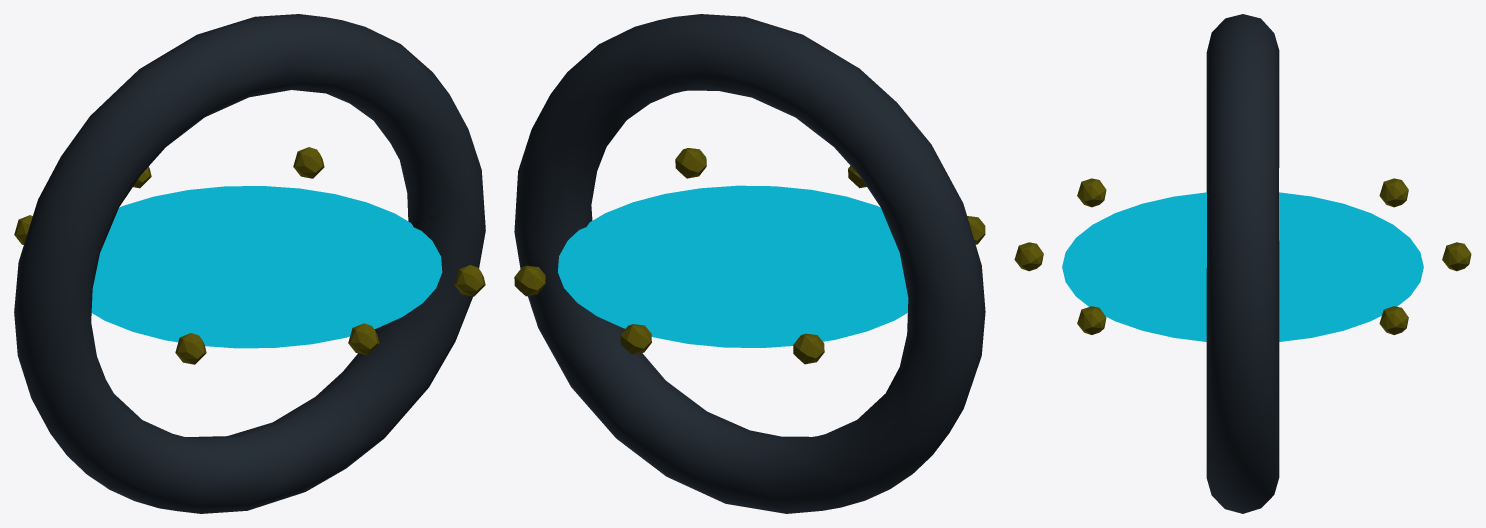
The model's file is 15_portal_atlantica_3d.obj.
The picture shows the model from 3 angles, left to right: view 1: azimuth 30°, elevation 25°; view 2: azimuth 150°, elevation 25°; view 3: azimuth 270°, elevation 25°; orthographic projection. The views are drawn at different scales.
Visible parts, largest first — view 1: Torus, Circle, Icosphere.001, Icosphere.005, Icosphere.002, Icosphere.003; view 2: Torus, Circle, Icosphere.005, Icosphere.007, Icosphere.003, Icosphere.006; view 3: Torus, Circle, Icosphere.001, Icosphere.002, Icosphere.006, Icosphere.005, Icosphere.007, Icosphere.003.
Part boxes in pixels (x1,y1,x2,y2): Torus: [14, 14, 485, 513]; Circle: [91, 186, 442, 348]; Icosphere.001: [175, 333, 206, 364]; Icosphere.005: [293, 147, 324, 178]; Icosphere.002: [348, 323, 379, 354]; Icosphere.003: [454, 265, 485, 296]; Torus: [514, 14, 985, 513]; Circle: [558, 185, 908, 347]; Icosphere.005: [514, 265, 545, 296]; Icosphere.007: [793, 333, 824, 364]; Icosphere.003: [675, 148, 706, 178]; Icosphere.006: [620, 324, 651, 354]; Torus: [1206, 14, 1279, 513]; Circle: [1062, 192, 1423, 341]; Icosphere.001: [1077, 178, 1106, 207]; Icosphere.002: [1014, 242, 1043, 271]; Icosphere.006: [1442, 242, 1471, 271]; Icosphere.005: [1379, 306, 1408, 334]; Icosphere.007: [1379, 178, 1408, 207]; Icosphere.003: [1077, 306, 1106, 334].
Bounding box in the file's own units: 3.04 × 3.04 × 2.78.
10 materials, 10 textured.
